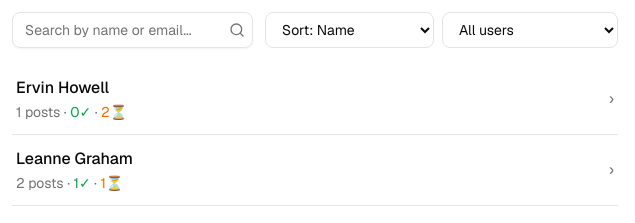
Test: shows empty state when filters remove all results
Type "zzznomatch" into the field with placeholder "Search by name or email..." at (132, 30), box [12,12,253,48]
Wait 300 ms
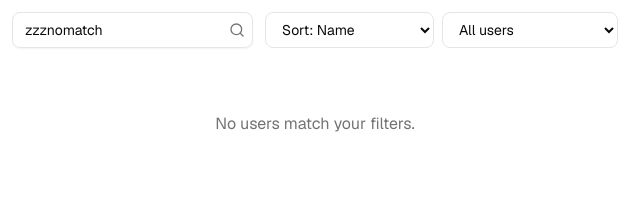
Now the text "No users match your filters." is shown, box [215,113,415,134]
